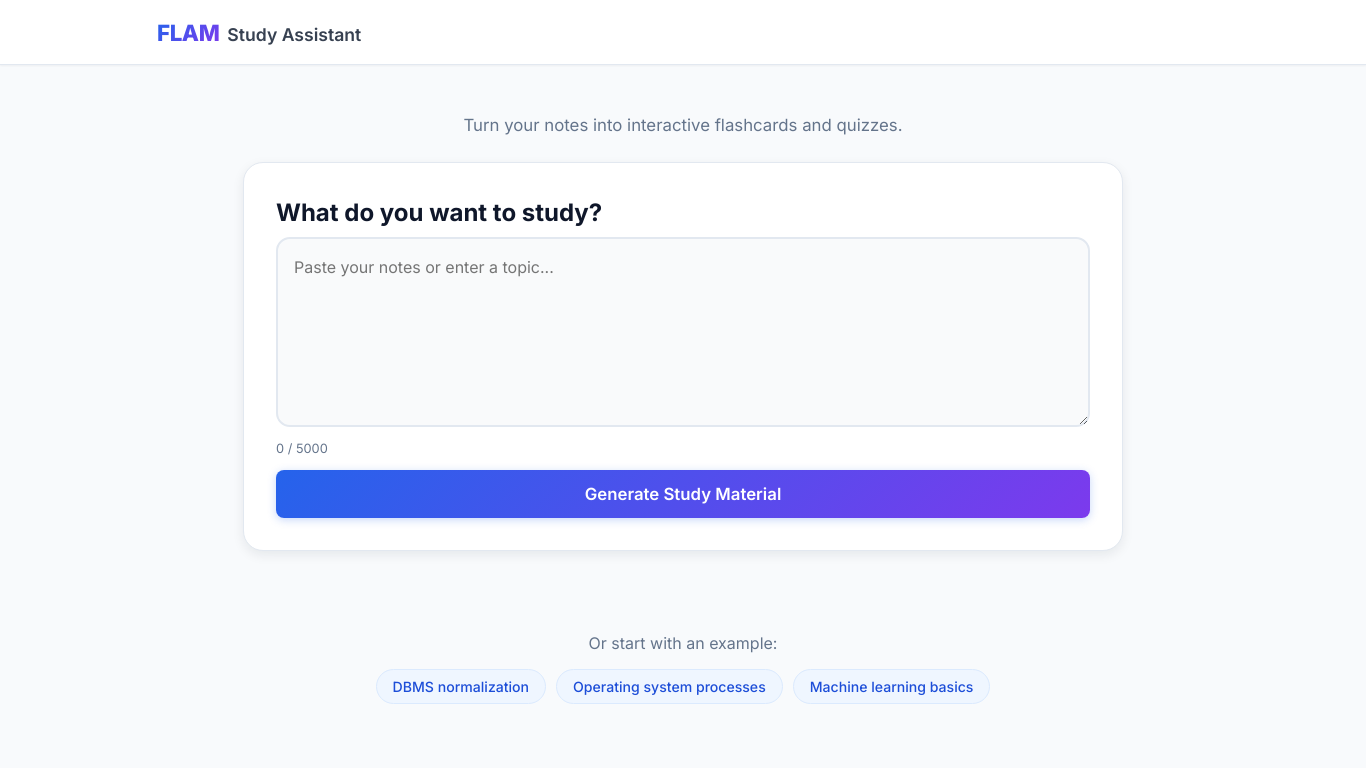
Test: App request flow › prefills the input with the example DBMS normalization
Click the button "DBMS normalization".
click(461, 686)  # box [376, 669, 546, 704]
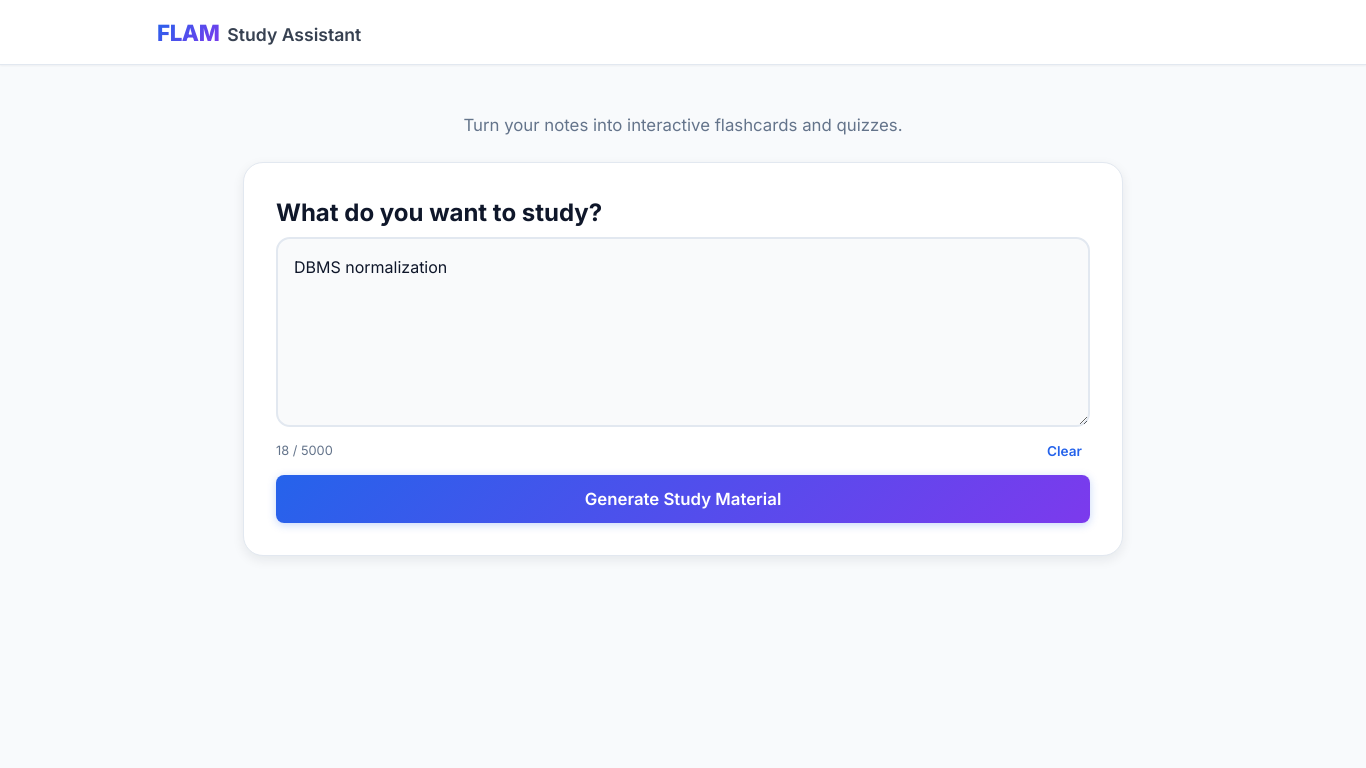
Check: the text box named "Notes or Topic" holds "DBMS normalization", box [276, 237, 1090, 427]
